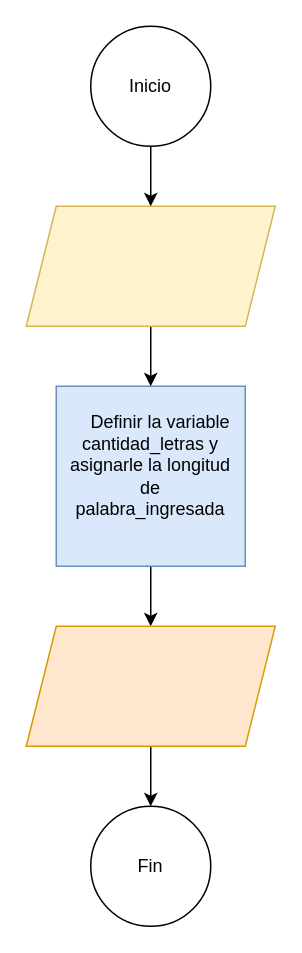
The diagram is 302 pixels wide and 953 high, and some of its shapes have lost their labels. Each missing label, with the box of its shape:
Mostrar mensaje: "La palabra ingresada tiene ", cantidad_letras, letras.": (25, 625, 275, 746)
Mostrar mensaje: "Por favor, ingrese una palabra: ": (25, 205, 275, 326)
